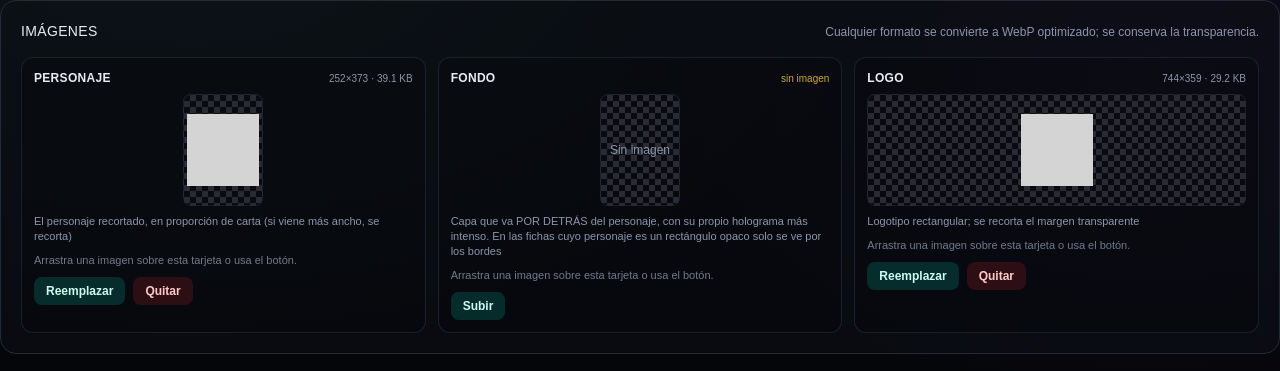
Scenario: ImageManager › lo mismo al borrar: sin detalle en la respuesta no se pisa la ficha
Click the button "Quitar" below "252".
click(163, 291)  # box [133,277,193,305]
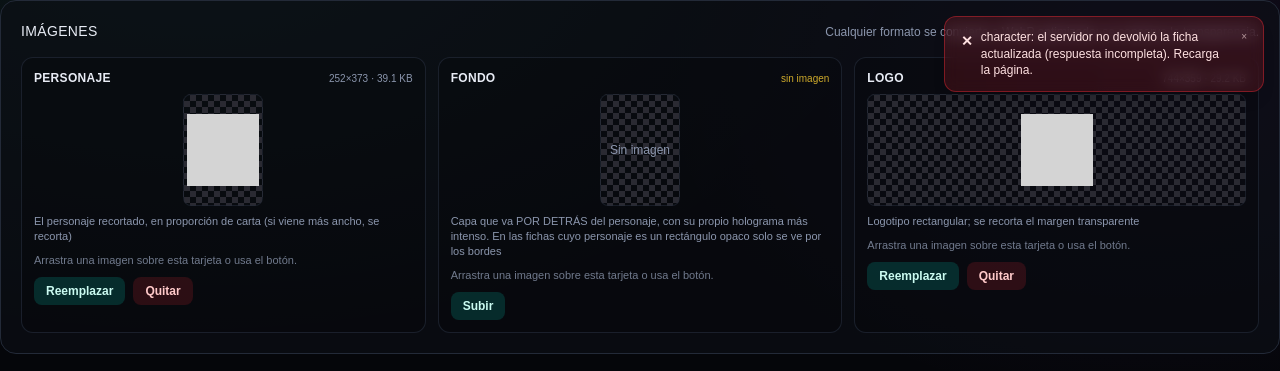
Expected: the message with test id "toast-error" shows "no devolvió la ficha", [981,30,1219,77]
